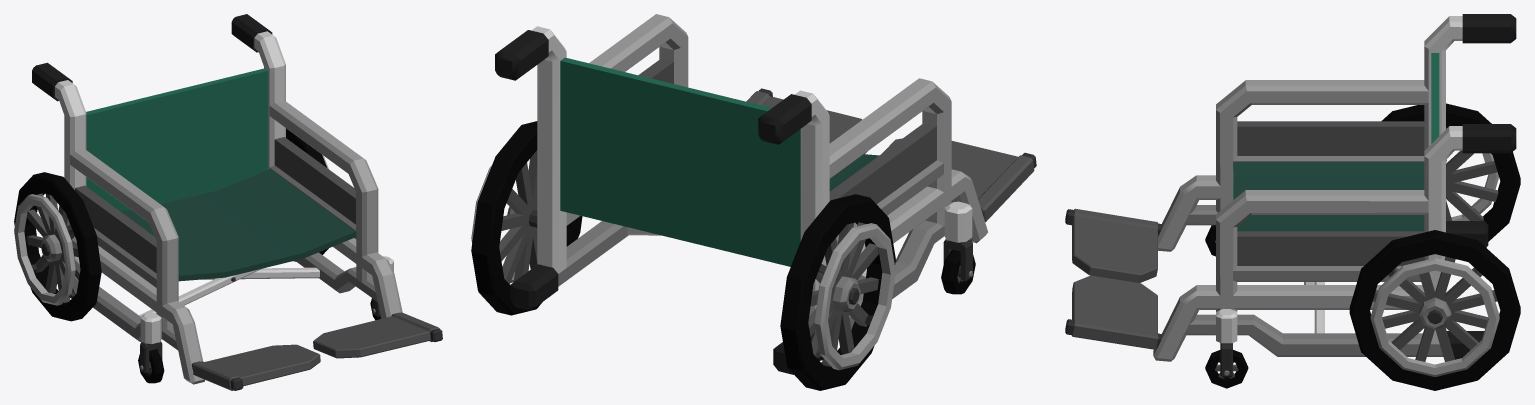
File: Wheelchair 01.fbx
3 views of the same model, side by side, from view 1: azimuth 30°, elevation 25°; view 2: azimuth 150°, elevation 25°; view 3: azimuth 270°, elevation 25° (orthographic). The views are drawn at different scales.
Parts seen in each view (by area): view 1: Wheelchair_01; view 2: Wheelchair_01; view 3: Wheelchair_01.
Part boxes in pixels (x1=…): Wheelchair_01: x1=14, y1=14, x2=442, y2=390; Wheelchair_01: x1=471, y1=14, x2=1036, y2=390; Wheelchair_01: x1=1065, y1=14, x2=1520, y2=390.
Size of the model in its own units: 97.92 by 77.8 by 128.
